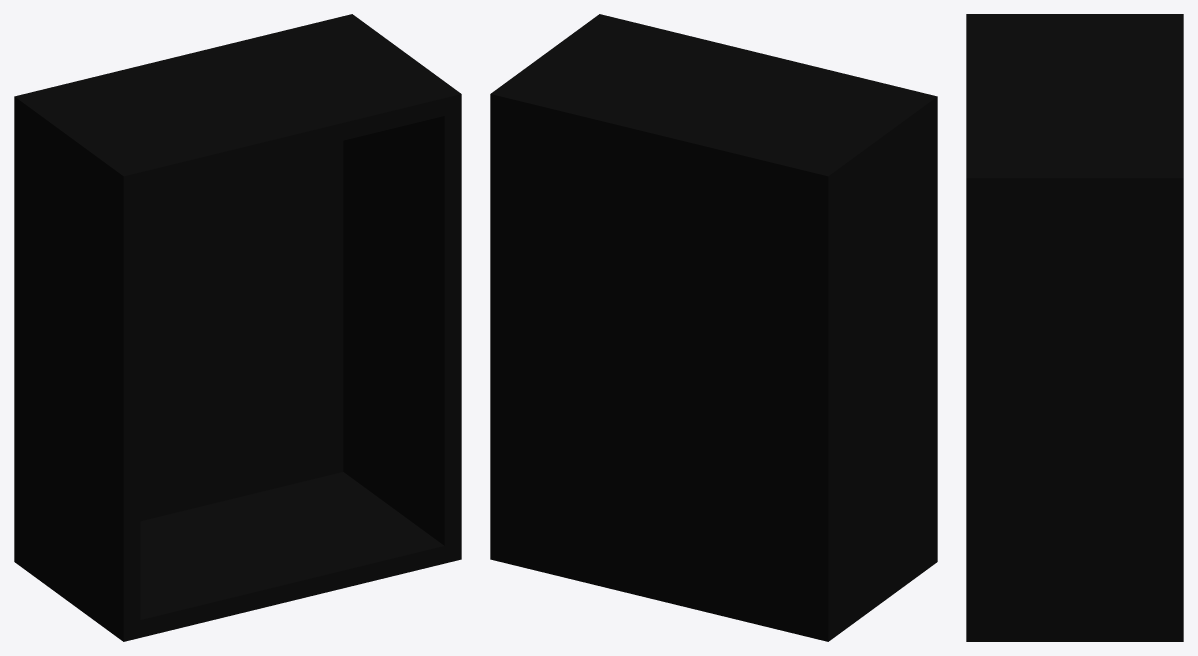
The model's file is Itr_Wardrobe3_Body2_05.FBX.
3 views of the same model, side by side, from view 1: azimuth 30°, elevation 25°; view 2: azimuth 150°, elevation 25°; view 3: azimuth 270°, elevation 25° (orthographic).
Parts seen in each view (by area): view 1: Itr_Wardrobe3_Body2_05; view 2: Itr_Wardrobe3_Body2_05; view 3: Itr_Wardrobe3_Body2_05.
Part boxes in pixels (left/top/right/bottom): Itr_Wardrobe3_Body2_05: left=14, top=14, right=461, bottom=641; Itr_Wardrobe3_Body2_05: left=490, top=14, right=937, bottom=641; Itr_Wardrobe3_Body2_05: left=966, top=14, right=1183, bottom=641.
Bounding box in the file's own units: 43.75 × 57.59 × 24.49.
